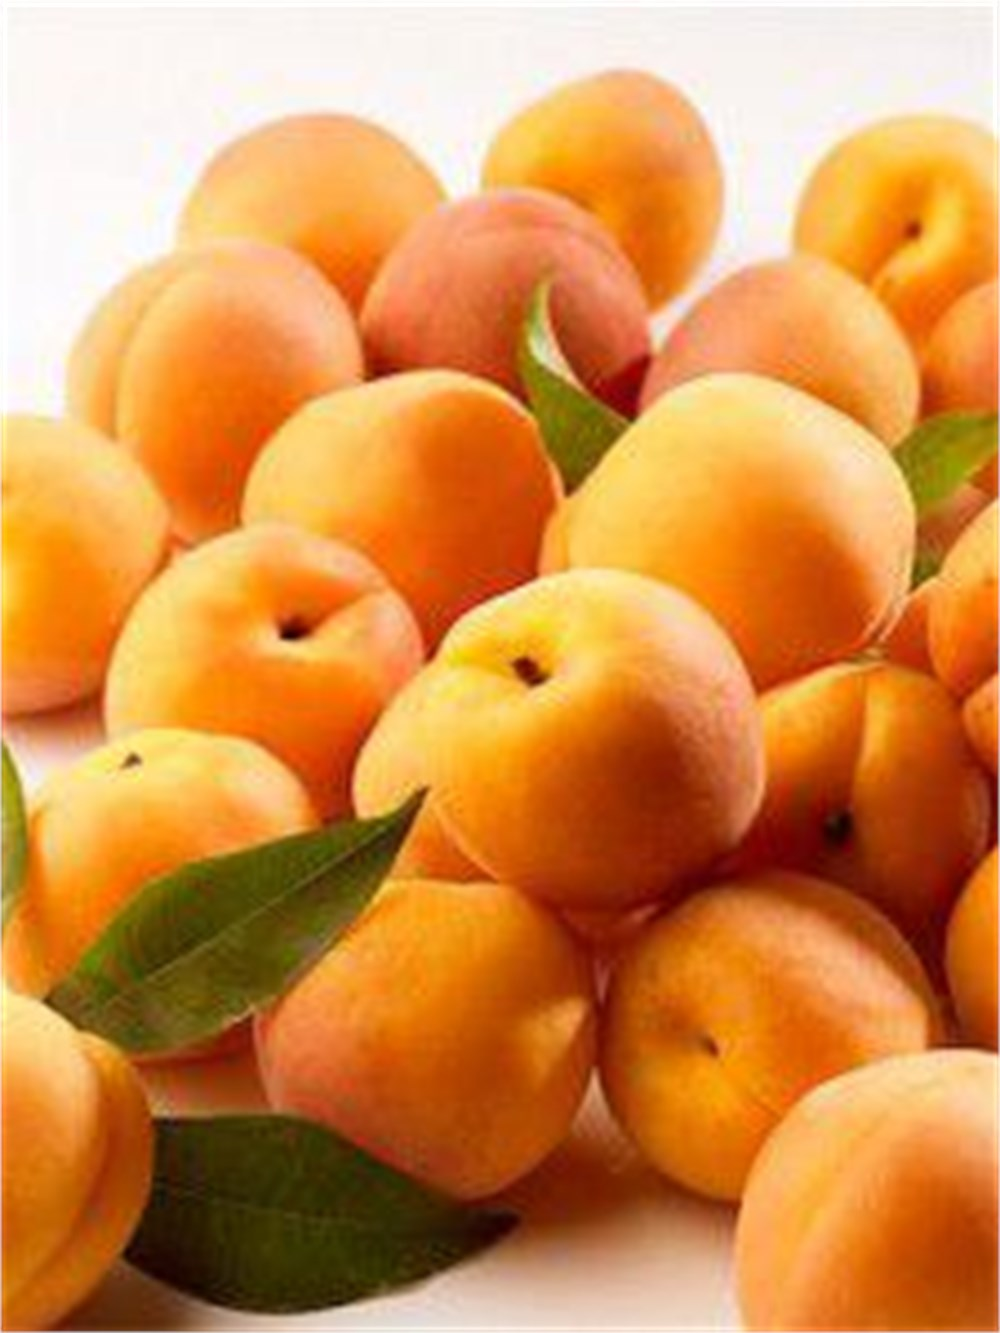Apricot: (422, 570, 764, 890), (106, 532, 418, 775)
